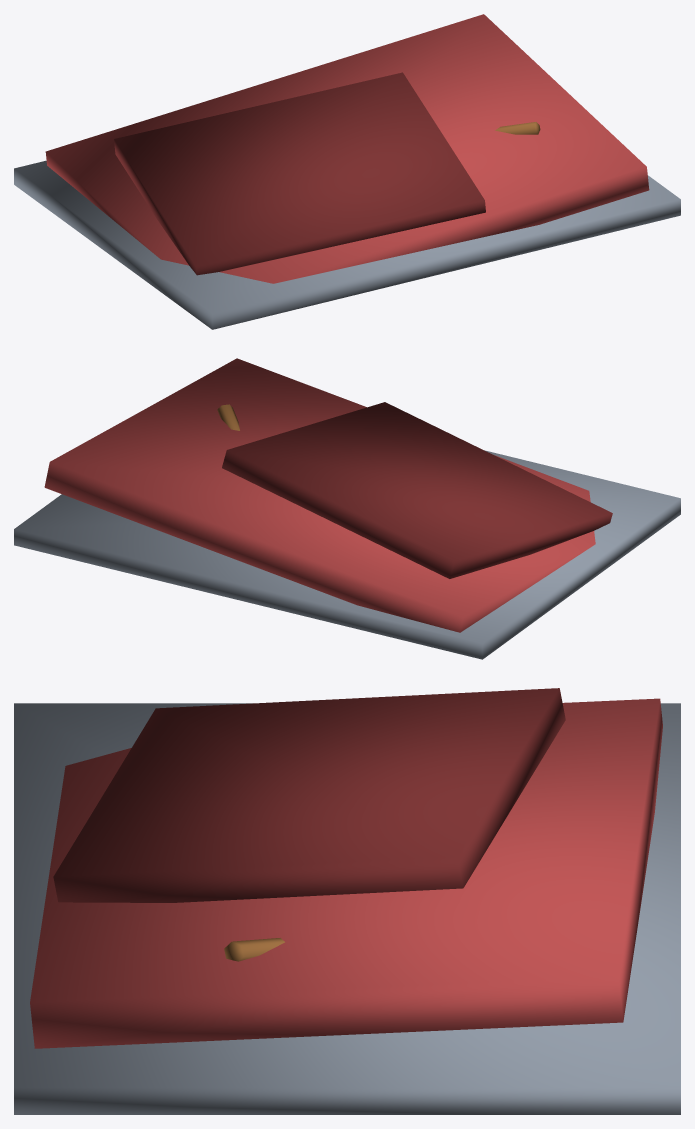
The model's file is district-barn-wreck.glb.
3 renders of one model, top to bottom at view 1: azimuth 30°, elevation 25°; view 2: azimuth 150°, elevation 25°; view 3: azimuth 270°, elevation 25°, orthographic. The views are drawn at different scales.
Visible parts, largest first — view 1: world; view 2: world; view 3: world.
Part boxes in pixels (box(x1,y1,x2,y2)): world: box(14, 14, 680, 329); world: box(14, 358, 680, 659); world: box(14, 688, 680, 1114).
Bounding box in the file's own units: 12 × 2.4 × 8.8.
